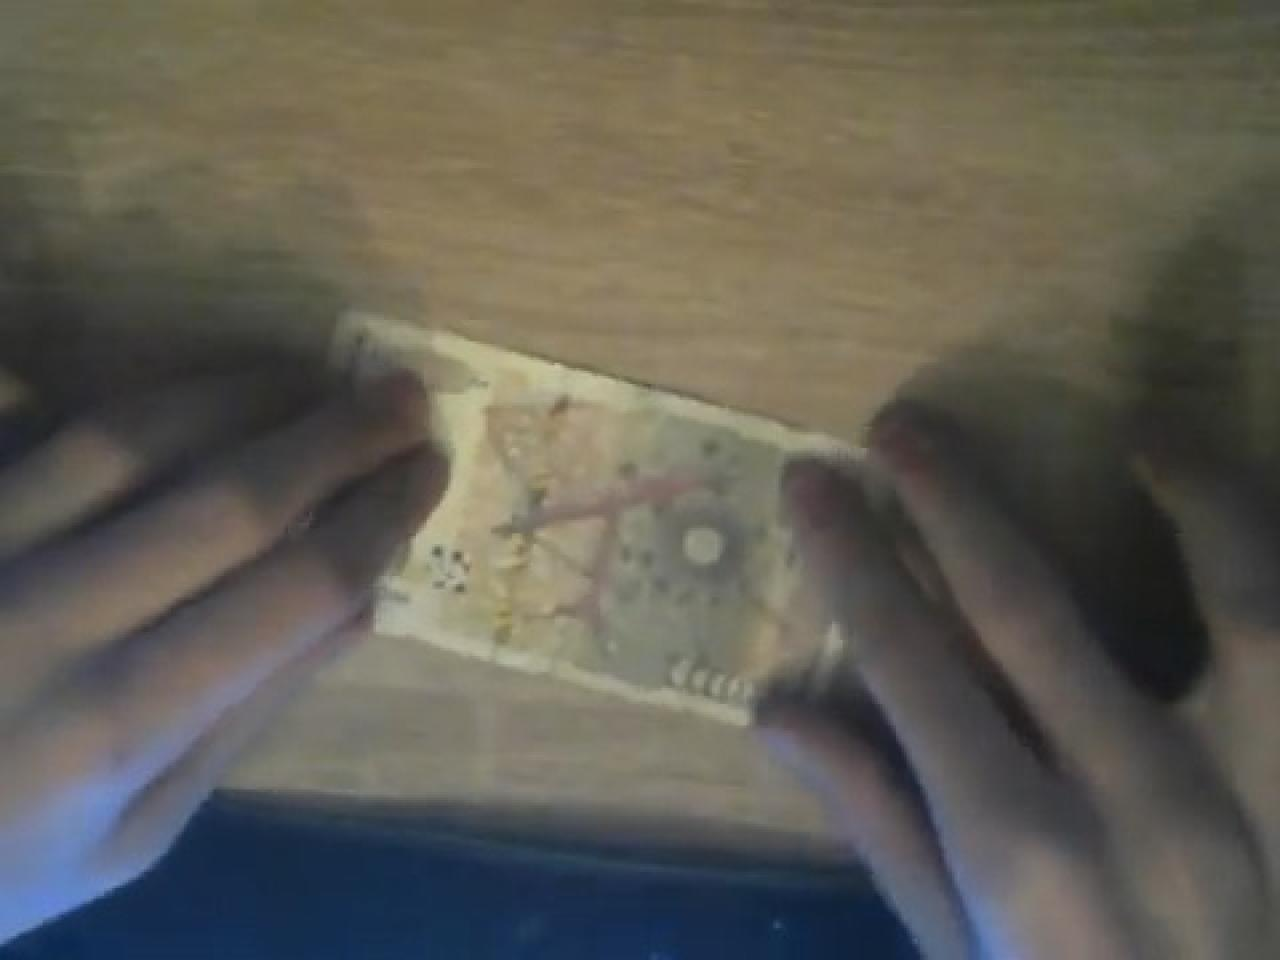10leva: (360, 315, 843, 723)
